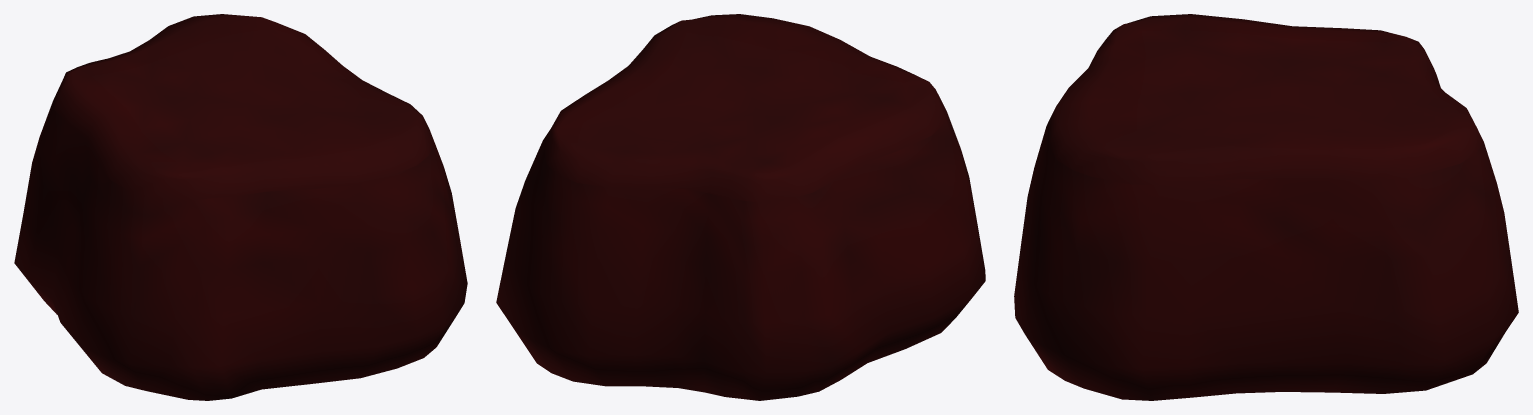
The model's file is geology-landforms-greenplateautiny_v3.fbx.
3 views of the same model, side by side, from view 1: azimuth 30°, elevation 25°; view 2: azimuth 150°, elevation 25°; view 3: azimuth 270°, elevation 25° (orthographic). The views are drawn at different scales.
Parts seen in each view (by area): view 1: GreenPlateauTiny_v3; view 2: GreenPlateauTiny_v3; view 3: GreenPlateauTiny_v3.
Boxes of the visible parts, x1,y1,x2,y2 form: GreenPlateauTiny_v3: [14, 14, 467, 400]; GreenPlateauTiny_v3: [496, 14, 985, 400]; GreenPlateauTiny_v3: [1014, 14, 1518, 400].
Size of the model in its own units: 29.65 by 16.82 by 33.13.
